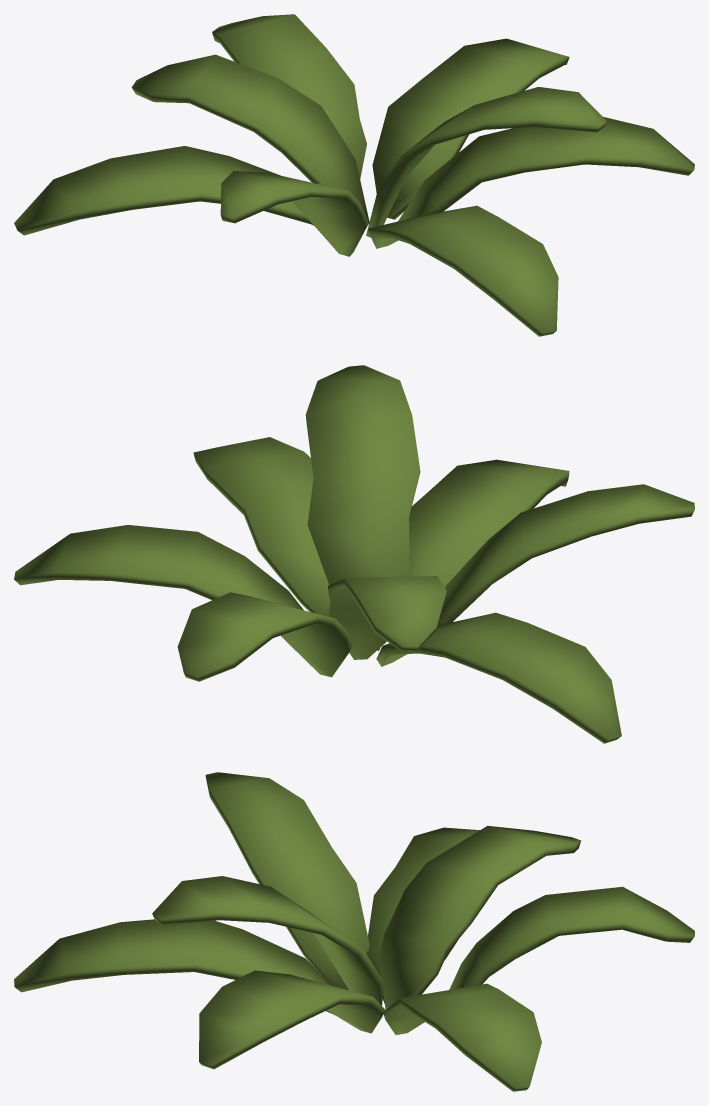
Rendered from rpgpp_ag_plant_02b.fbx.
3 views of the same model, one above another, from view 1: azimuth 30°, elevation 25°; view 2: azimuth 150°, elevation 25°; view 3: azimuth 270°, elevation 25° (orthographic). The views are drawn at different scales.
Parts seen in each view (by area): view 1: rpgpp_ag_plant_02b; view 2: rpgpp_ag_plant_02b; view 3: rpgpp_ag_plant_02b.
Boxes of the visible parts, bbox=[...] form: rpgpp_ag_plant_02b: bbox=[14, 14, 694, 336]; rpgpp_ag_plant_02b: bbox=[14, 365, 694, 743]; rpgpp_ag_plant_02b: bbox=[14, 772, 694, 1091].
Size of the model in its own units: 1.23 by 0.357 by 1.28.
